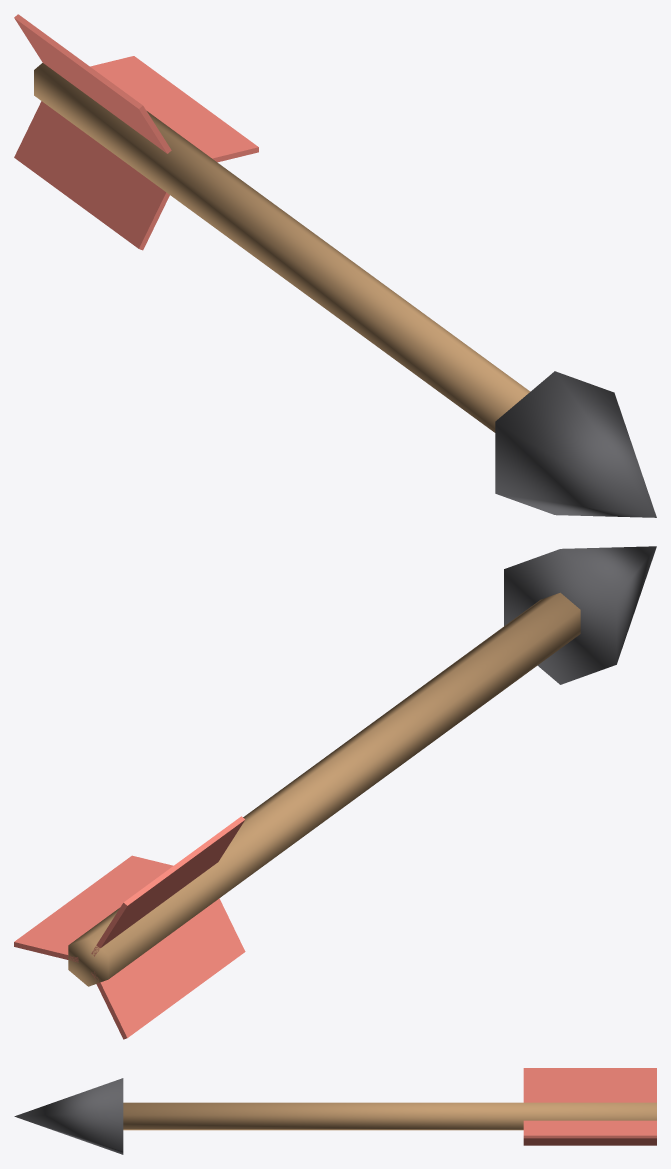
Rendered from arrow.glb.
3 views of the same model, one above another, from view 1: azimuth 30°, elevation 25°; view 2: azimuth 150°, elevation 25°; view 3: azimuth 270°, elevation 25° (orthographic). The views are drawn at different scales.
Bounding box in the file's own units: 0.1406 × 0.141 × 1.06.
